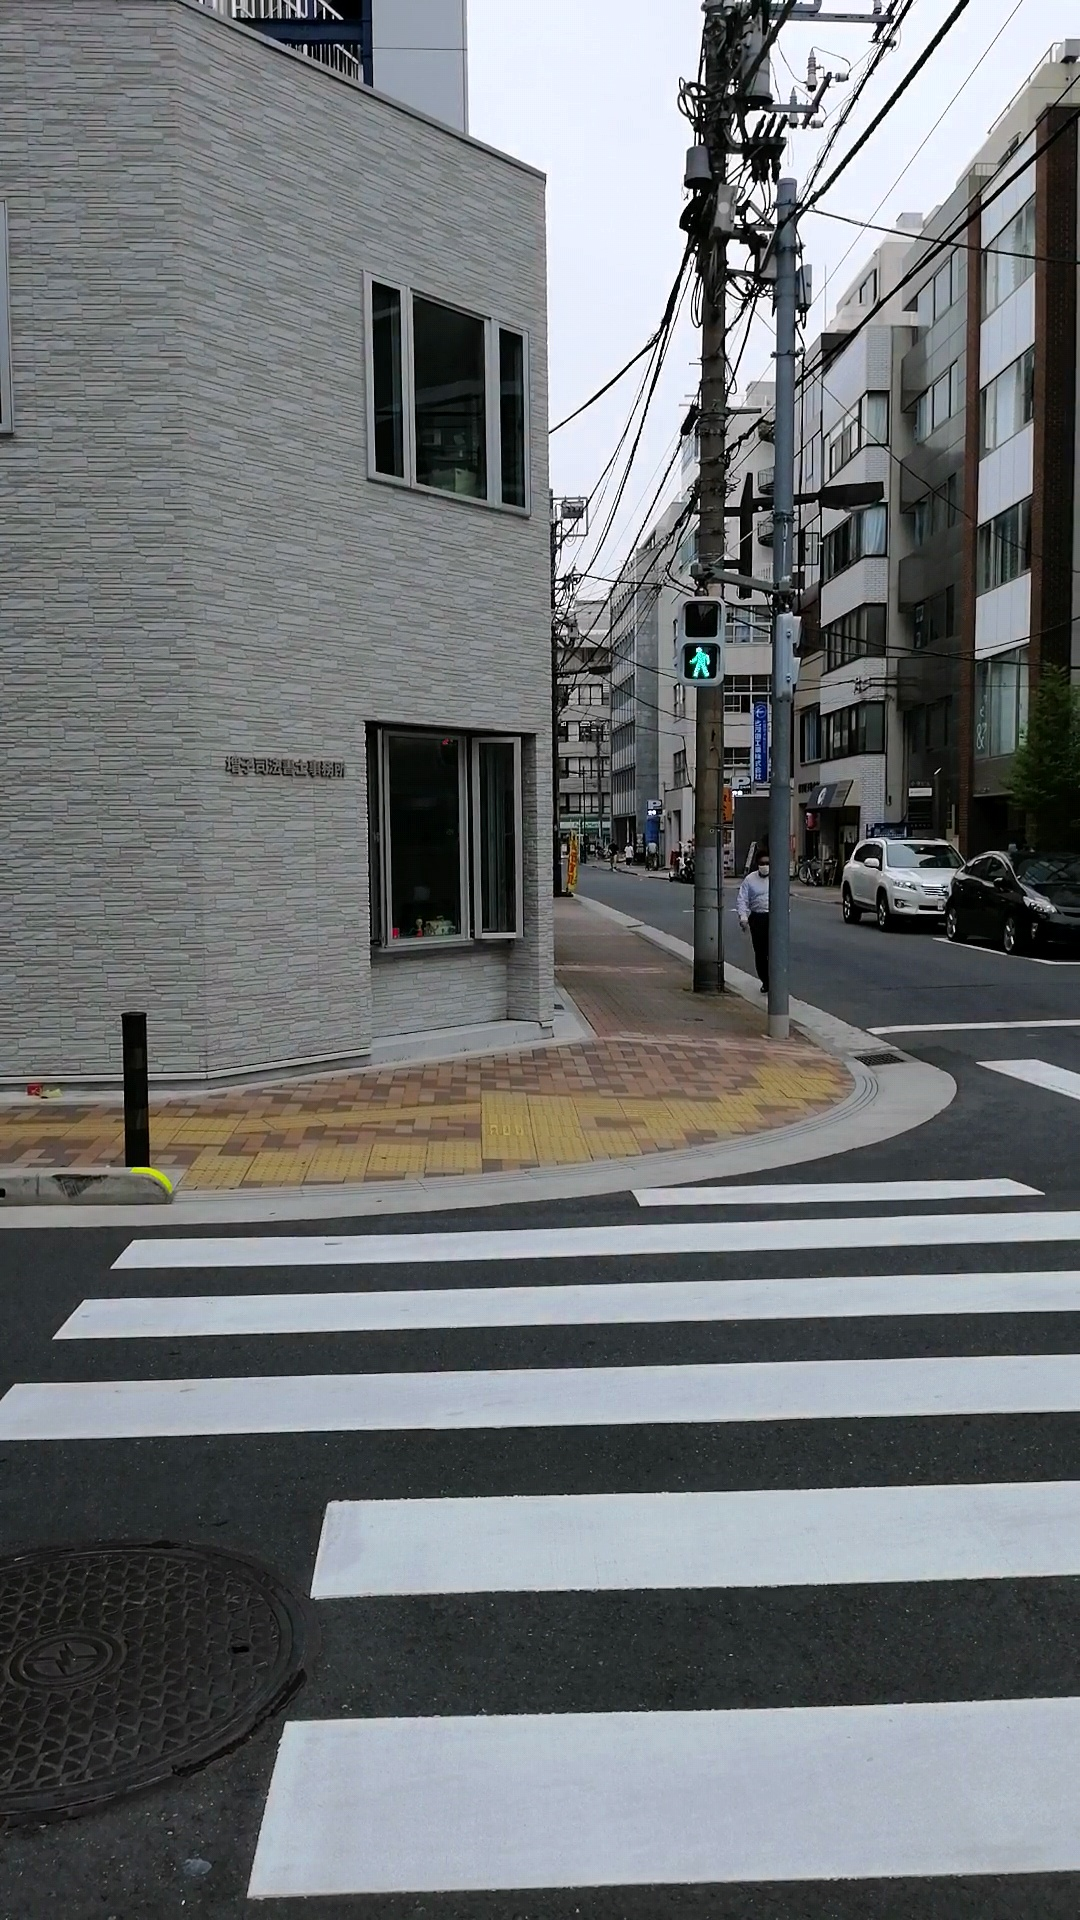green: (676, 597, 724, 687)
